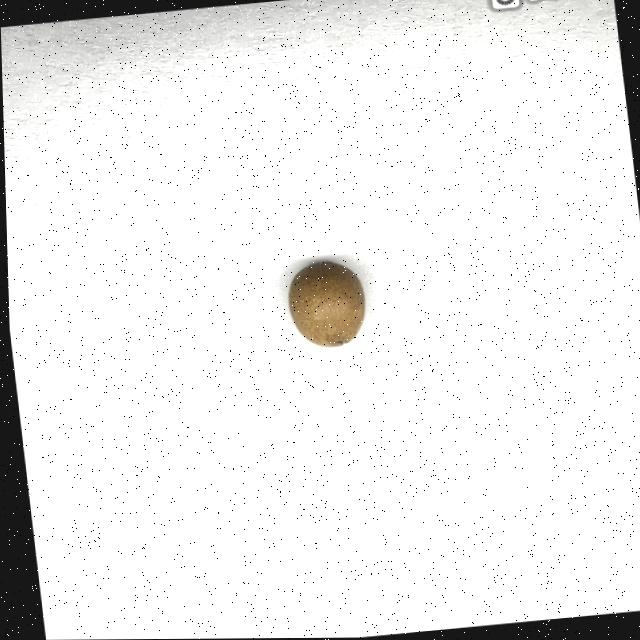Quaker: (281, 258, 368, 352)
